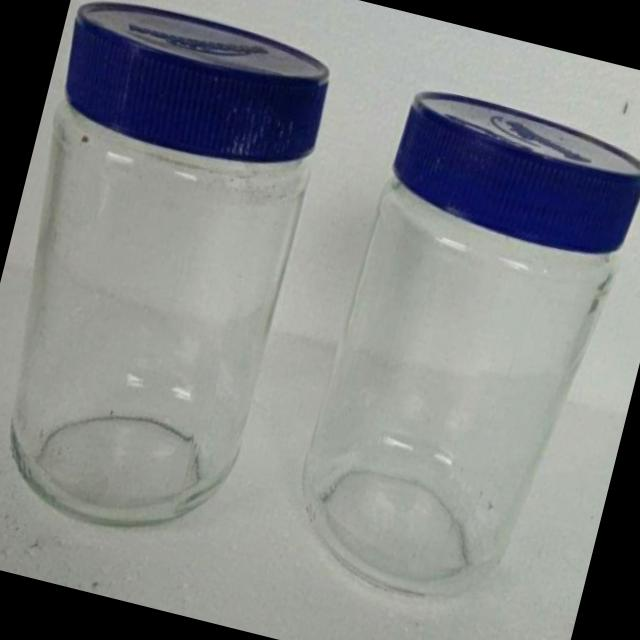ToplesKaca: (0, 0, 353, 546), (292, 78, 640, 620)
